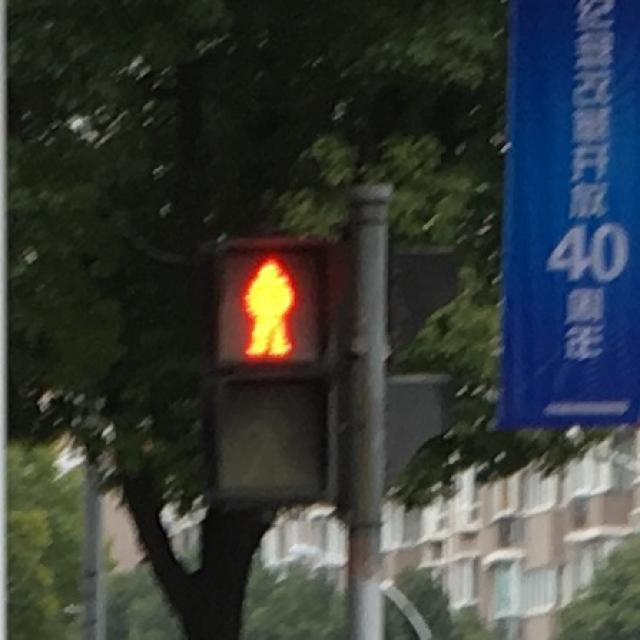red-crossing: (219, 246, 321, 365)
